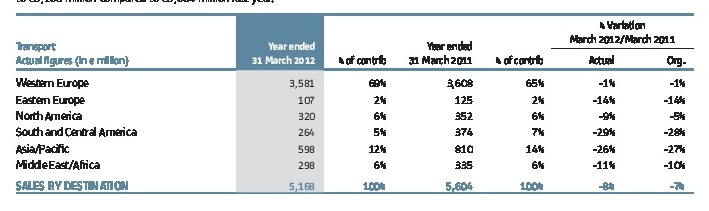table: (0, 0, 709, 211)
